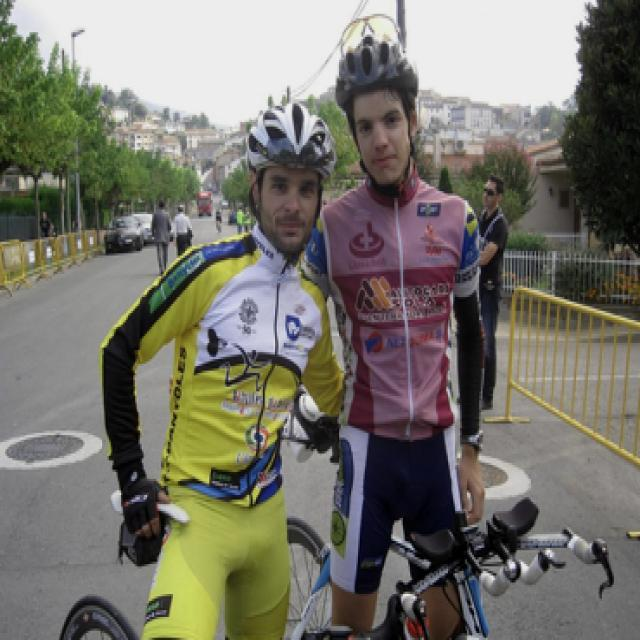Helmet: (334, 20, 431, 194), (246, 101, 340, 258)
